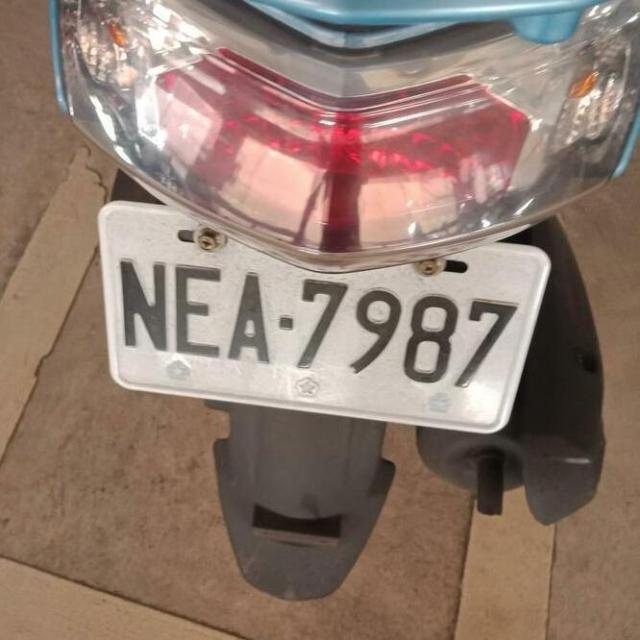W: (82, 194, 557, 456)
